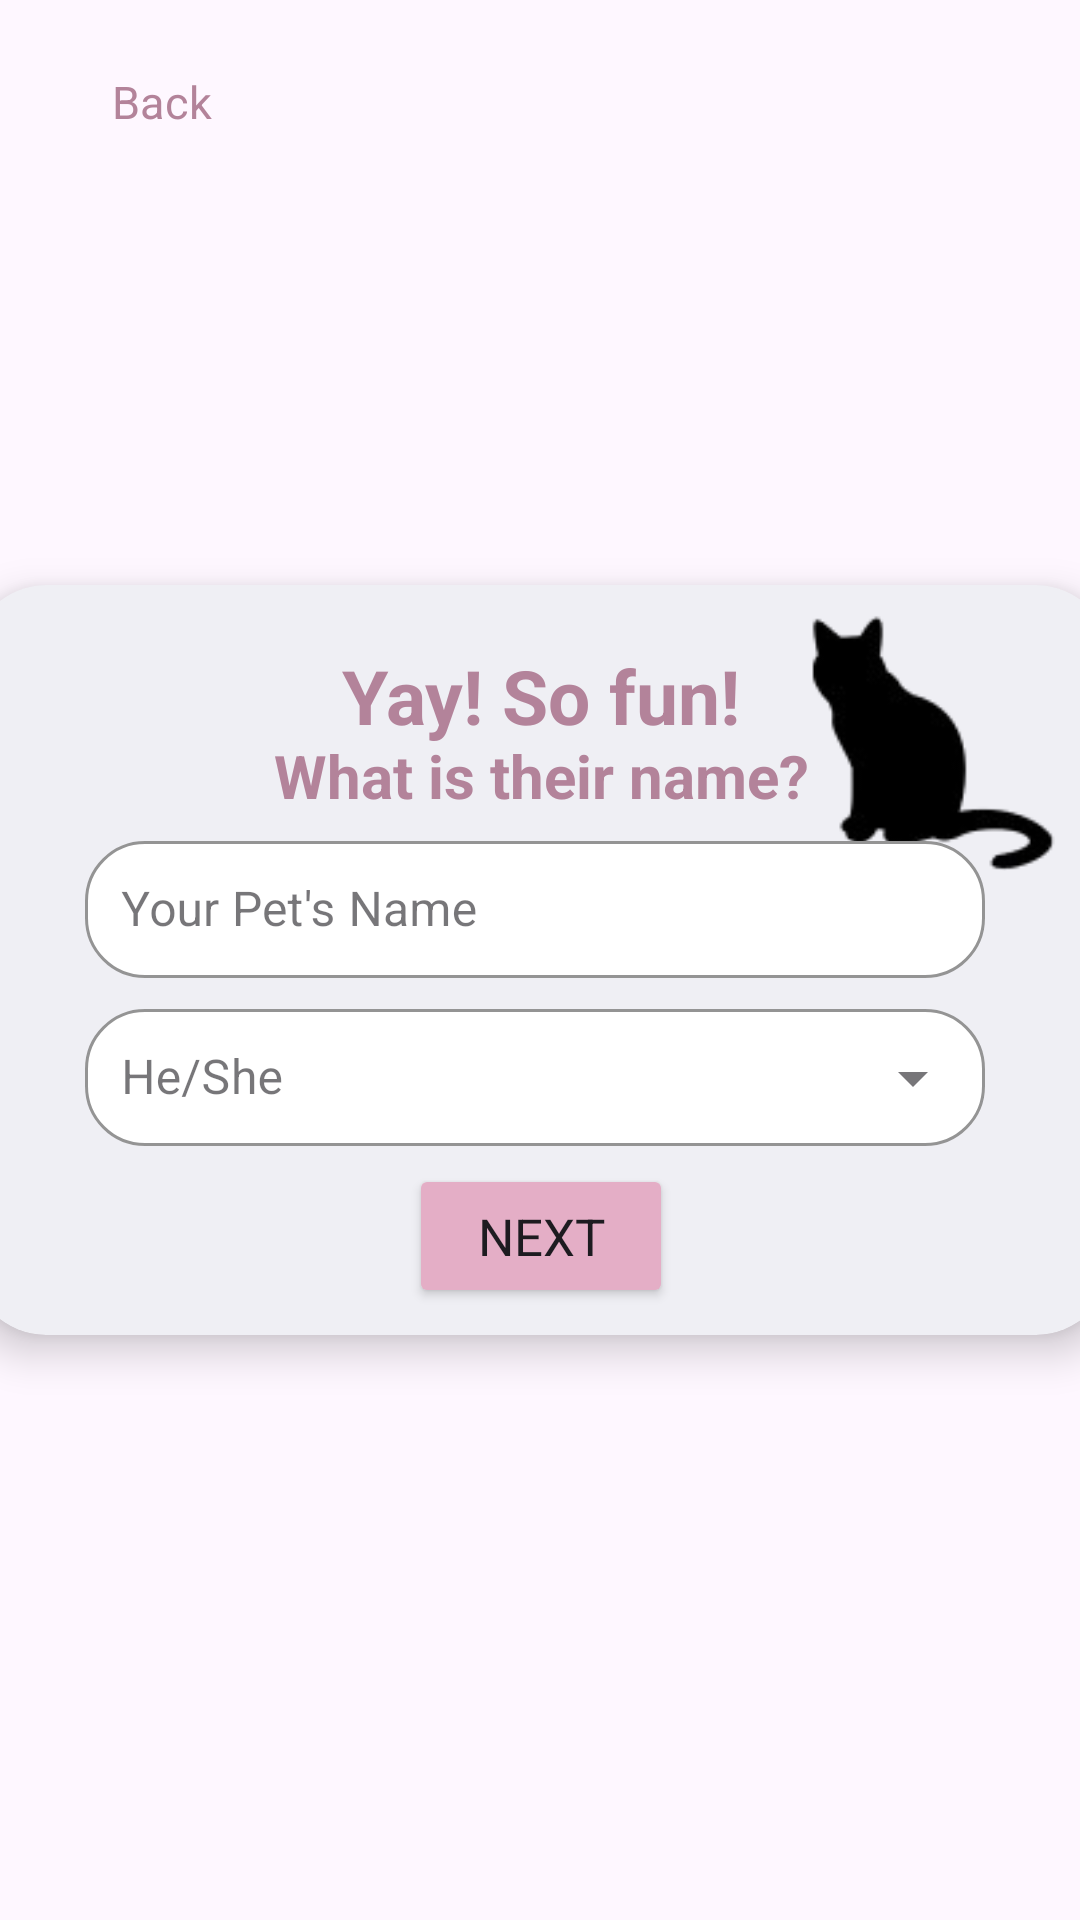

Icon bounding boxes for this 1080px x 1920px phone screenshot, format bbox=[x1, y1, x2, y2]:
Cat Button: bbox=[781, 616, 1053, 885]
